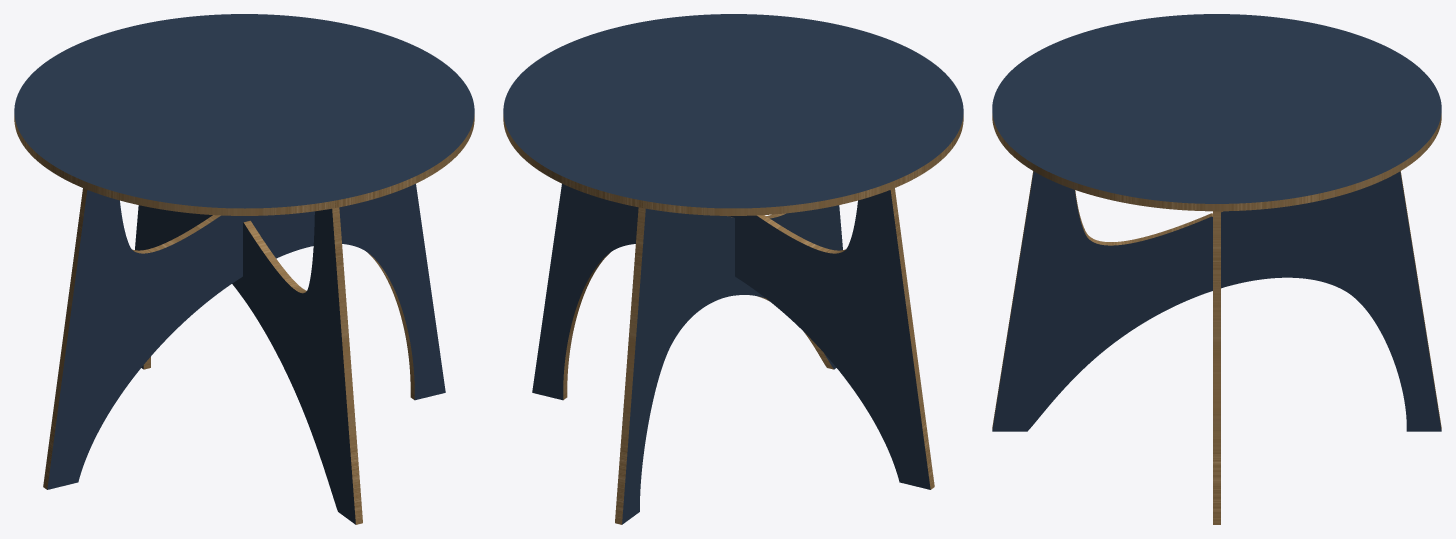
File: NODO_COMEDOR_CRUZ_CUARZO_V1.glb
3 views of the same model, side by side, from view 1: azimuth 30°, elevation 25°; view 2: azimuth 150°, elevation 25°; view 3: azimuth 270°, elevation 25° (orthographic). The views are drawn at different scales.
Parts seen in each view (by area): view 1: Tapa, Lateral_2, Lateral_1; view 2: Tapa, Lateral_2, Lateral_1; view 3: Tapa, Lateral_1, Lateral_2.
Boxes of the visible parts, box(x1,y1,x2,y2) form: Tapa: box(14, 14, 474, 215); Lateral_2: box(43, 184, 445, 489); Lateral_1: box(135, 205, 362, 524); Tapa: box(503, 14, 963, 215); Lateral_2: box(532, 183, 934, 489); Lateral_1: box(615, 205, 842, 524); Tapa: box(992, 14, 1441, 211); Lateral_1: box(992, 171, 1441, 431); Lateral_2: box(1213, 211, 1220, 524).
Size of the model in its own units: 1 by 0.788 by 1.
2 materials, 2 textured.
